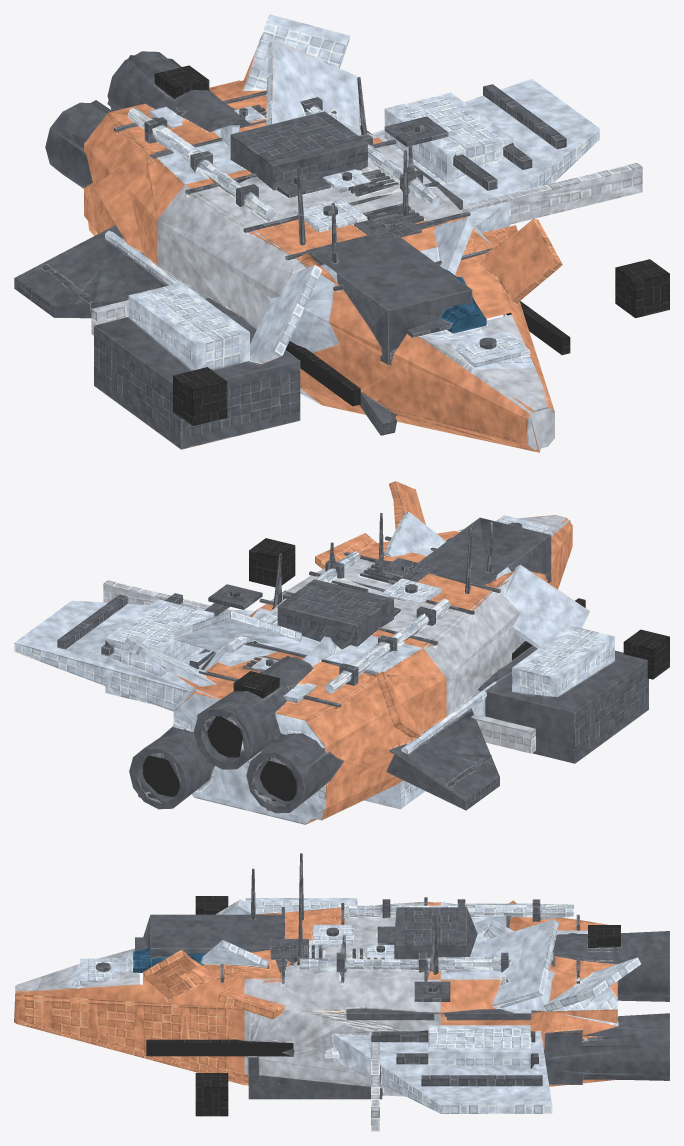
Rendered from sd_npc_reaver.glb.
3 renders of one model, top to bottom at view 1: azimuth 30°, elevation 25°; view 2: azimuth 150°, elevation 25°; view 3: azimuth 270°, elevation 25°, orthographic. The views are drawn at different scales.
Visible parts, largest first — view 1: LOD0_body, LOD1_body; view 2: LOD0_body, LOD1_body; view 3: LOD0_body, LOD1_body.
Boxes of the visible parts, x1=… form: LOD0_body: x1=14, y1=14, x2=669, y2=449; LOD1_body: x1=14, y1=33, x2=669, y2=452; LOD0_body: x1=14, y1=481, x2=669, y2=824; LOD1_body: x1=20, y1=483, x2=669, y2=820; LOD0_body: x1=15, y1=853, x2=669, y2=1131; LOD1_body: x1=14, y1=896, x2=669, y2=1116.
Size of the model in its own units: 0.8057 by 0.3329 by 1.
1 material, 1 textured.
